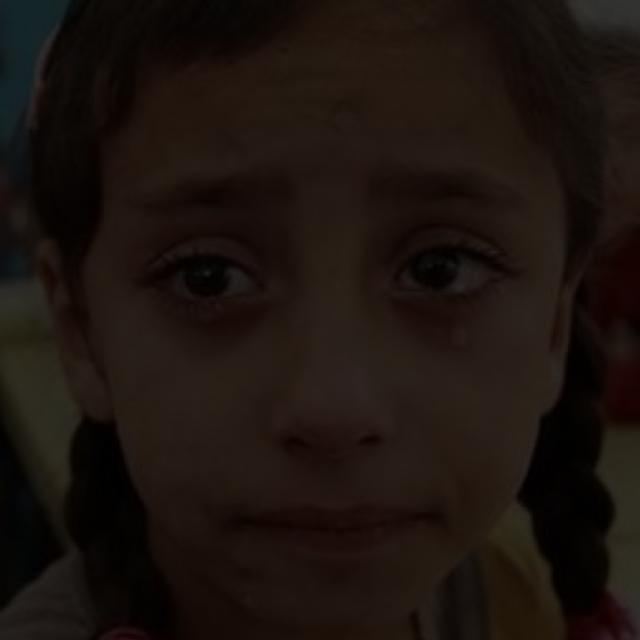Sad: (66, 105, 531, 614)
